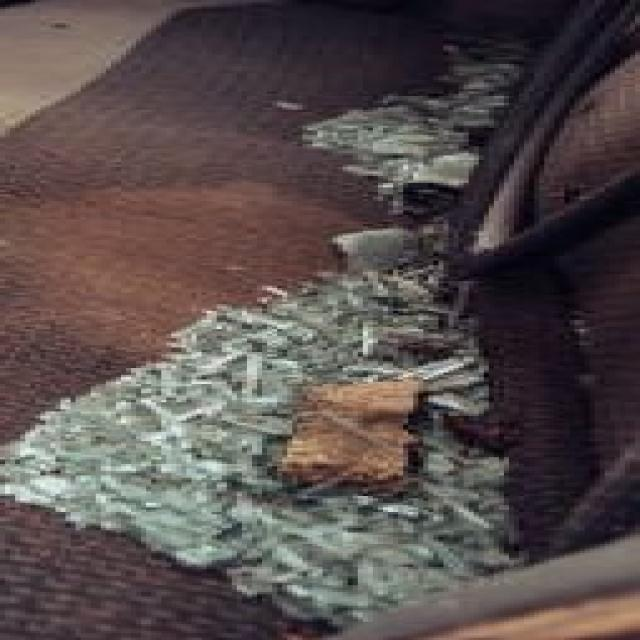electronic: (0, 222, 545, 633), (276, 37, 553, 188)
